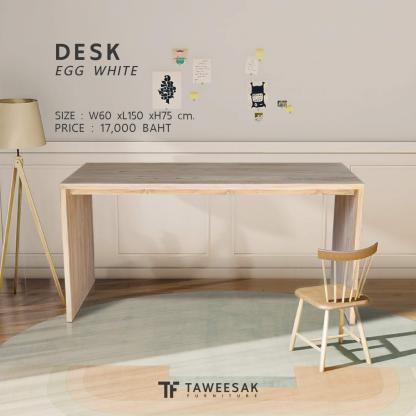table: (52, 155, 368, 328)
